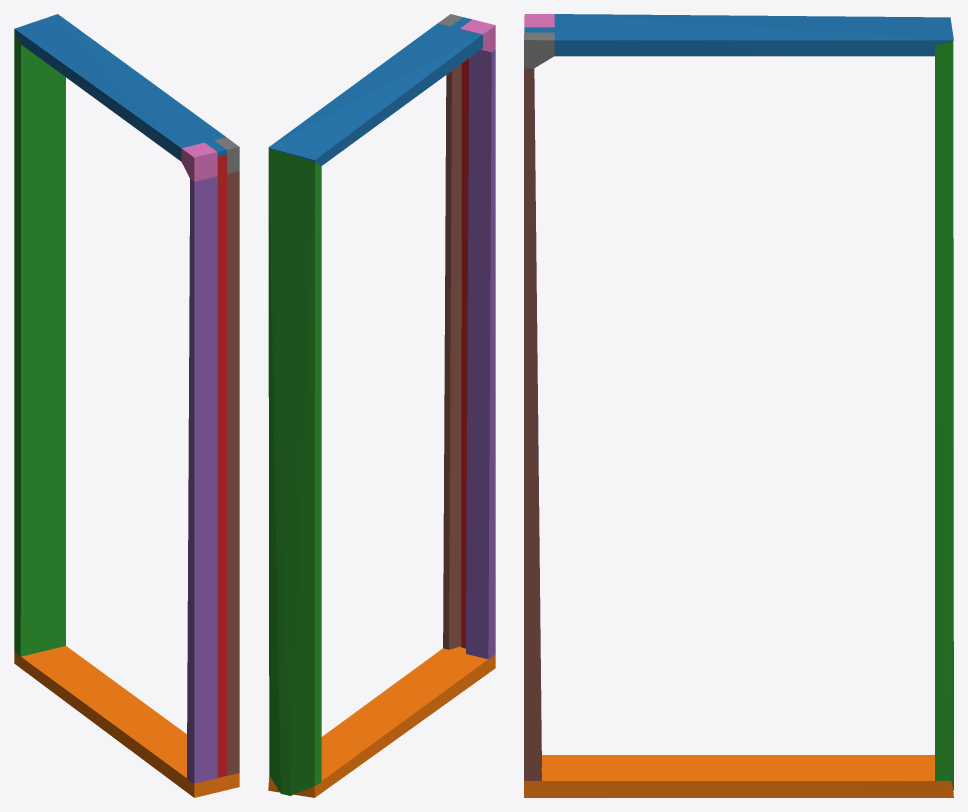
File: Casement_Body_cvx.obj
3 views of the same model, side by side, from view 1: azimuth 30°, elevation 25°; view 2: azimuth 150°, elevation 25°; view 3: azimuth 270°, elevation 25° (orthographic). The views are drawn at different scales.
Visible parts, largest first — view 1: scenes/apartment_0000_coacd/output/Unknown/Casement_Body/cvx/Cas; view 2: scenes/apartment_0000_coacd/output/Unknown/Casement_Body/cvx/Cas; view 3: scenes/apartment_0000_coacd/output/Unknown/Casement_Body/cvx/Cas.
Boxes of the visible parts, x1,y1,x2,y2 form: scenes/apartment_0000_coacd/output/Unknown/Casement_Body/cvx/Cas: (14,14,239,797); scenes/apartment_0000_coacd/output/Unknown/Casement_Body/cvx/Cas: (268,14,495,797); scenes/apartment_0000_coacd/output/Unknown/Casement_Body/cvx/Cas: (524,14,953,797).
Size of the model in its own units: 0.504 by 6.81 by 3.5.
